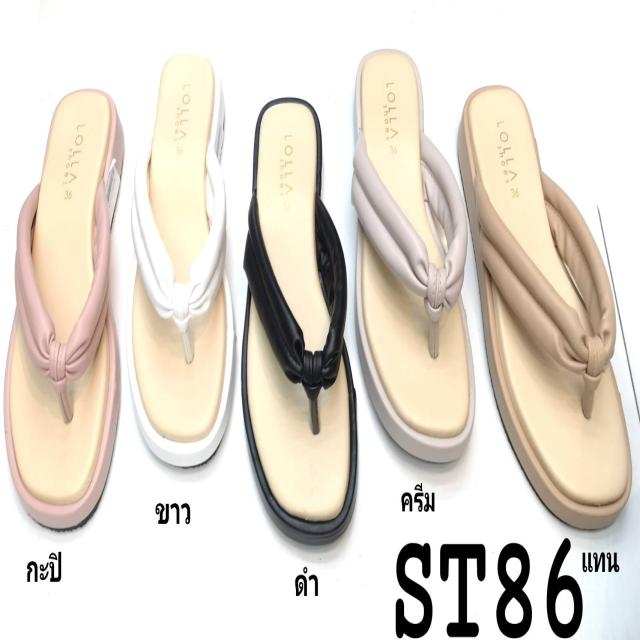black: (247, 95, 362, 537)
cream: (355, 44, 479, 470)
kapi: (12, 91, 122, 536)
tan: (460, 82, 627, 526)
white: (128, 49, 236, 474)
